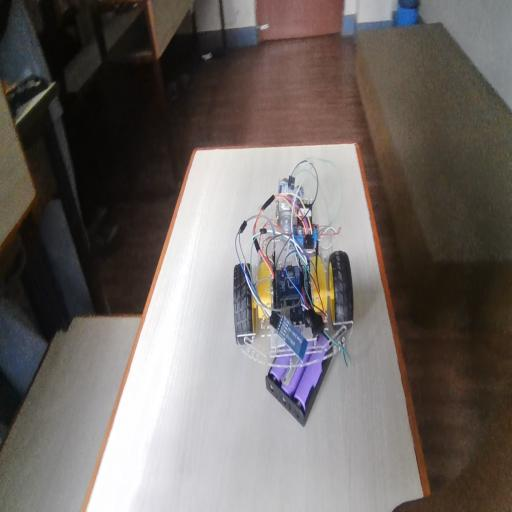car: (229, 141, 378, 510)
